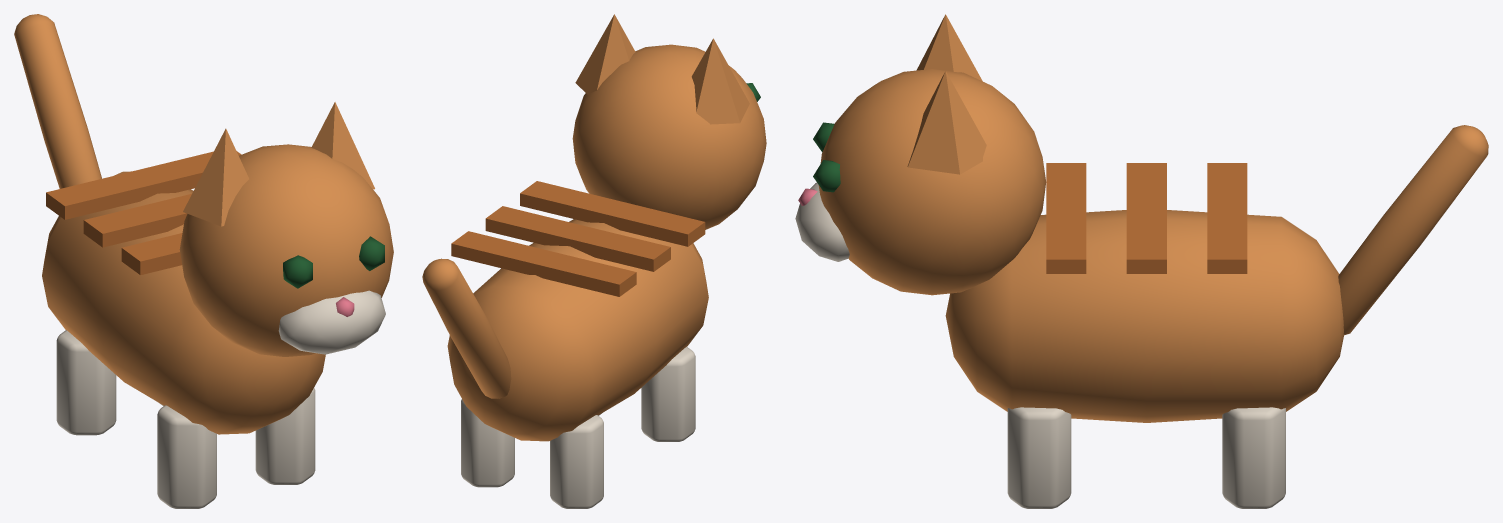
Rendered from cat.fbx.
The picture shows the model from 3 angles, left to right: view 1: azimuth 30°, elevation 25°; view 2: azimuth 150°, elevation 25°; view 3: azimuth 270°, elevation 25°; orthographic projection. The views are drawn at different scales.
Visible parts, largest first — view 1: Body, Head; view 2: Body, Head; view 3: Body, Head.
Boxes of the visible parts, box(x1,y1,x2,y2) form: Body: box(14, 14, 325, 508); Head: box(179, 102, 393, 356); Body: box(422, 181, 708, 508); Head: box(572, 14, 766, 229); Body: box(945, 125, 1488, 508); Head: box(795, 14, 1046, 295).
Bounding box in the file's own units: 0.17 × 0.355 × 0.5168.
